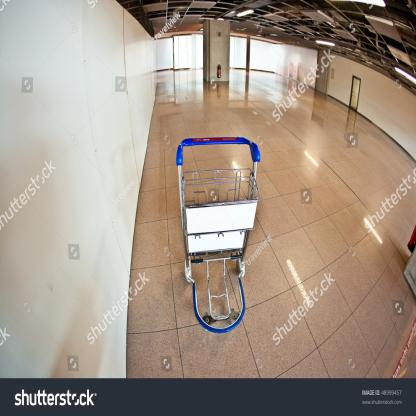airport-trolley: (164, 132, 267, 338)
